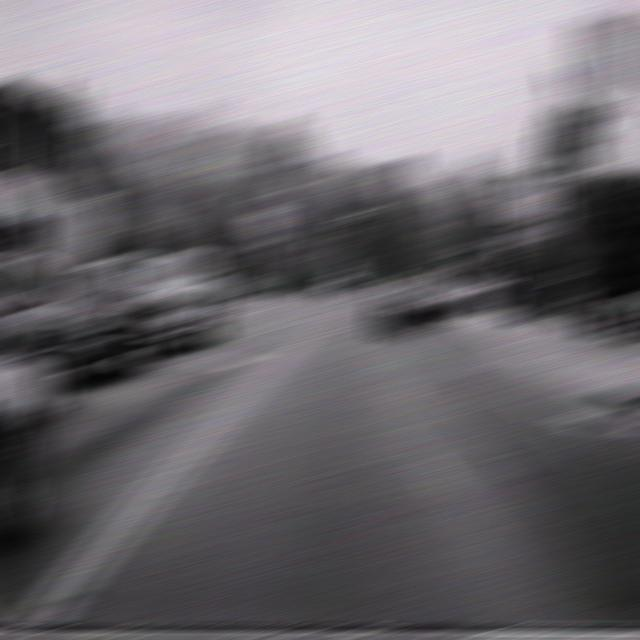speedLimit35: (496, 235, 522, 255)
